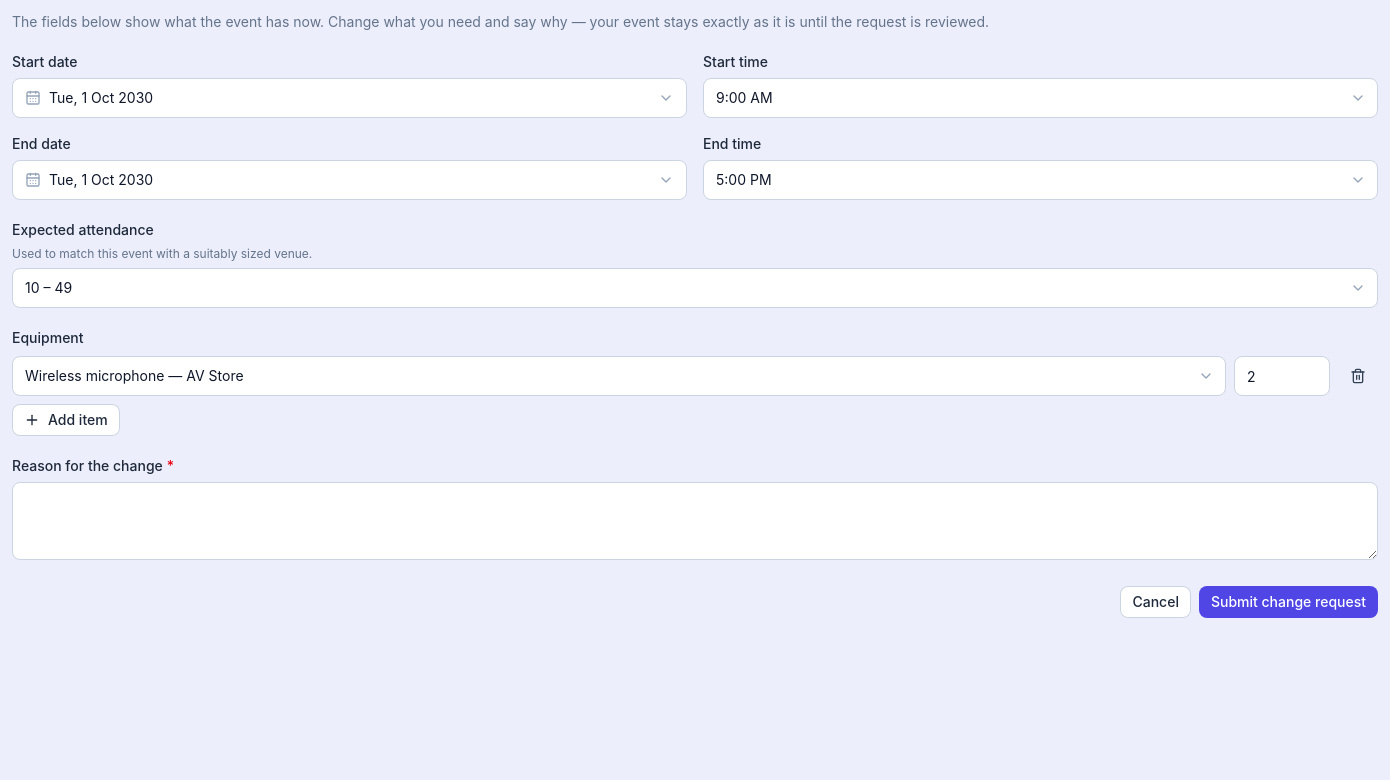
Test: US-36 AC-5, AC-7: equipment can be added, removed and changed › flags a quantity that is not a positive whole number
Expected: the dropdown named "Equipment item, row 1" is enabled, [12, 356, 1226, 396]
Replace the text in the number field named "Quantity, row 1" with "0". click: (1282, 376)
box: [1234, 356, 1330, 396]
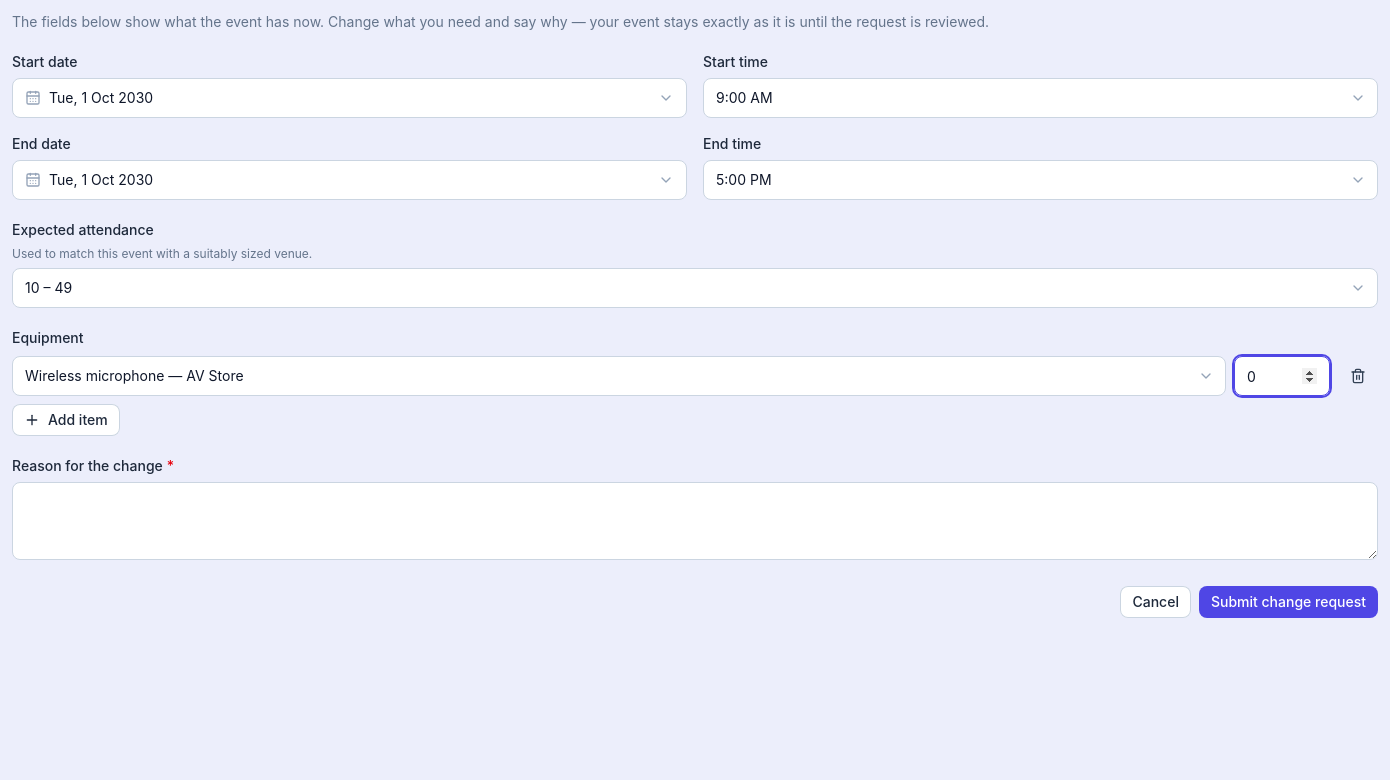
Type "More speakers" into the text box labelled "Reason for the change*". click: (695, 521)
box: [12, 482, 1378, 560]
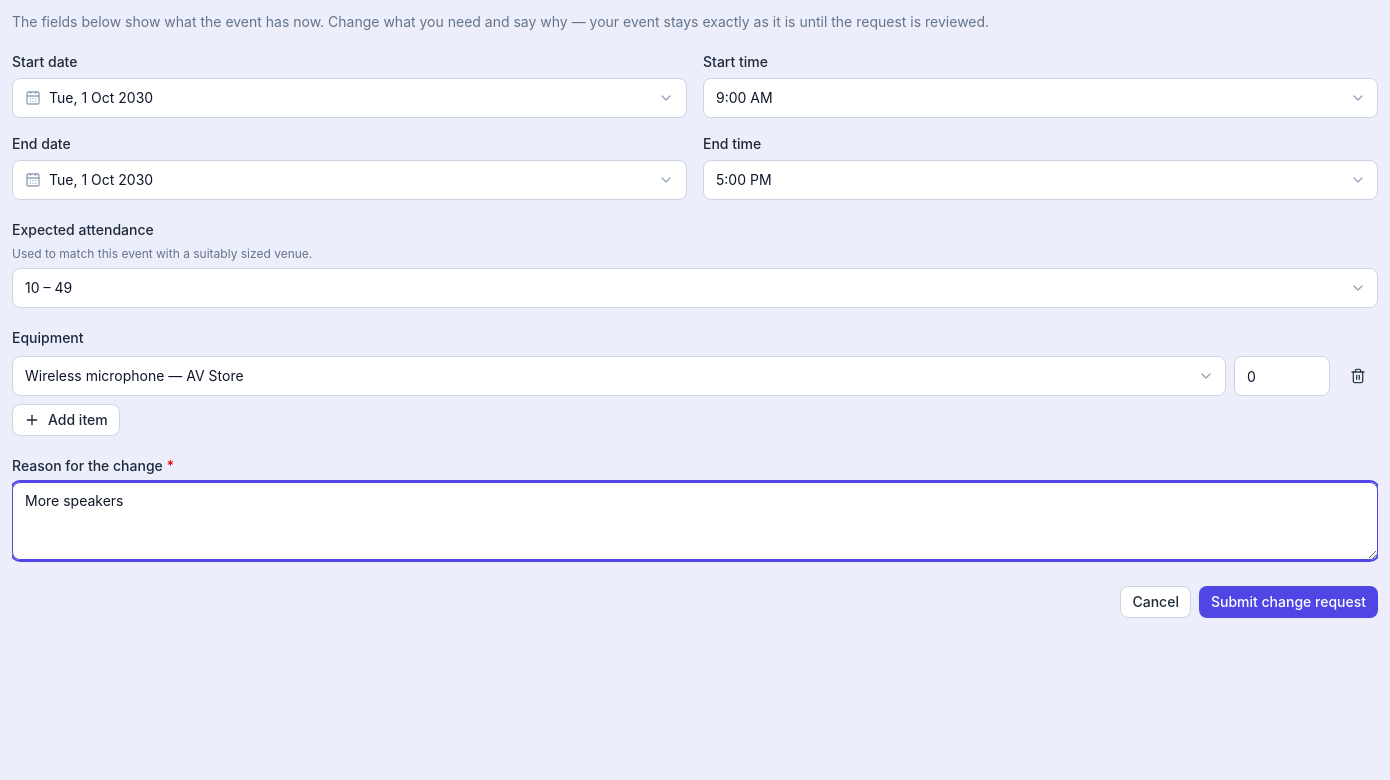
Click the button "Submit change request". click: (1288, 602)
box: [1199, 586, 1378, 618]
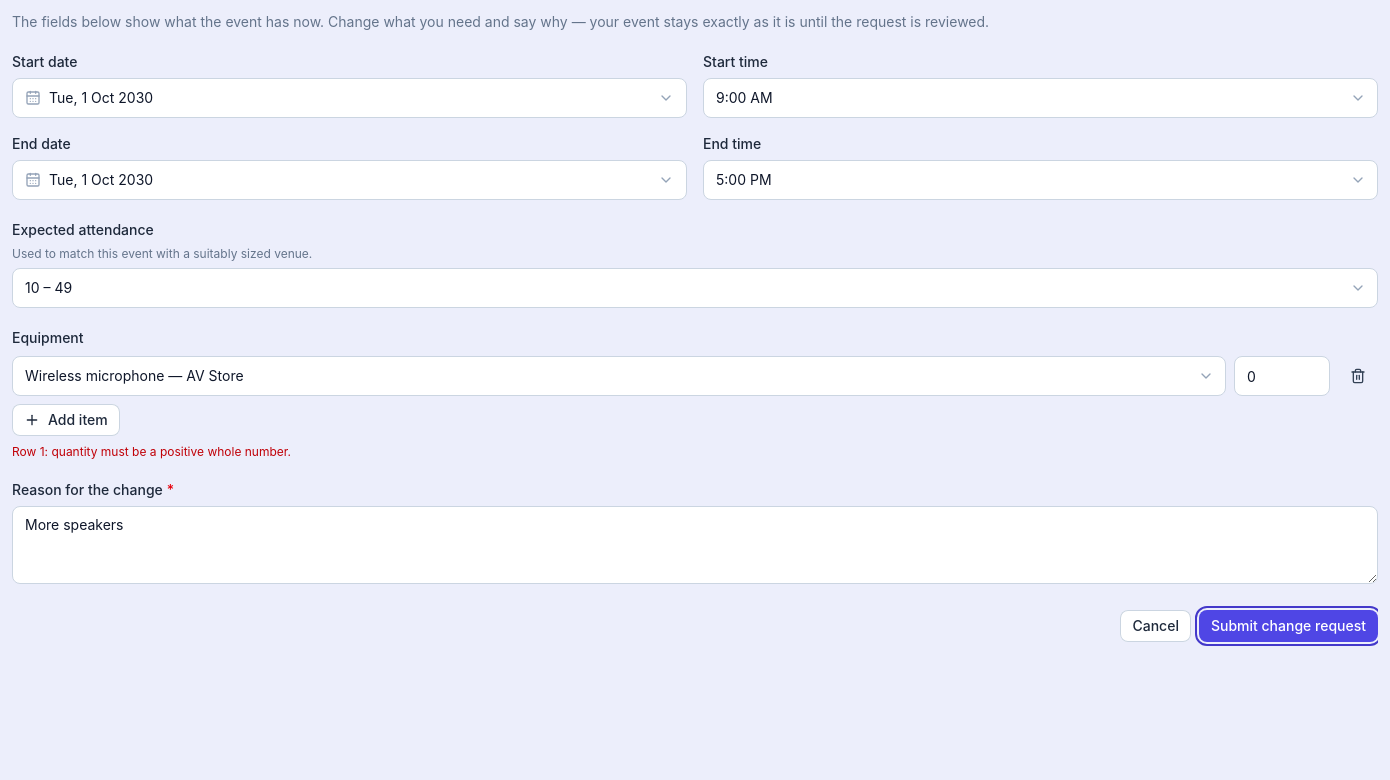
Expected: the list item "Row 1: quantity must be a positive whole number." is shown, [12, 444, 291, 459]
